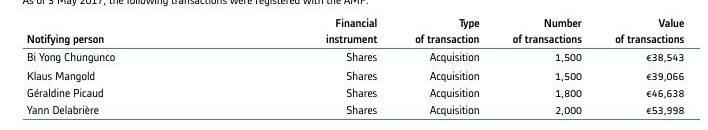table: (0, 0, 708, 130)
